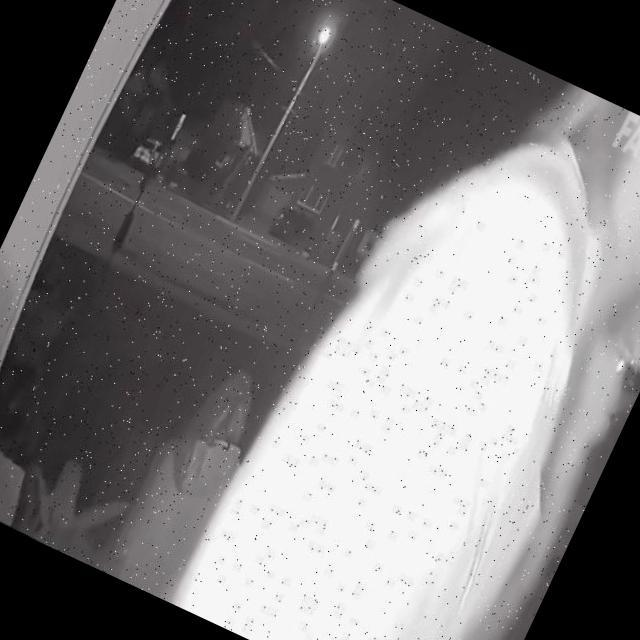person: (169, 23, 640, 640), (99, 352, 280, 607)
